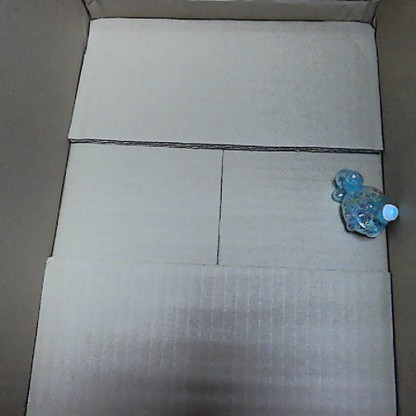bluefish: (329, 164, 401, 237)
